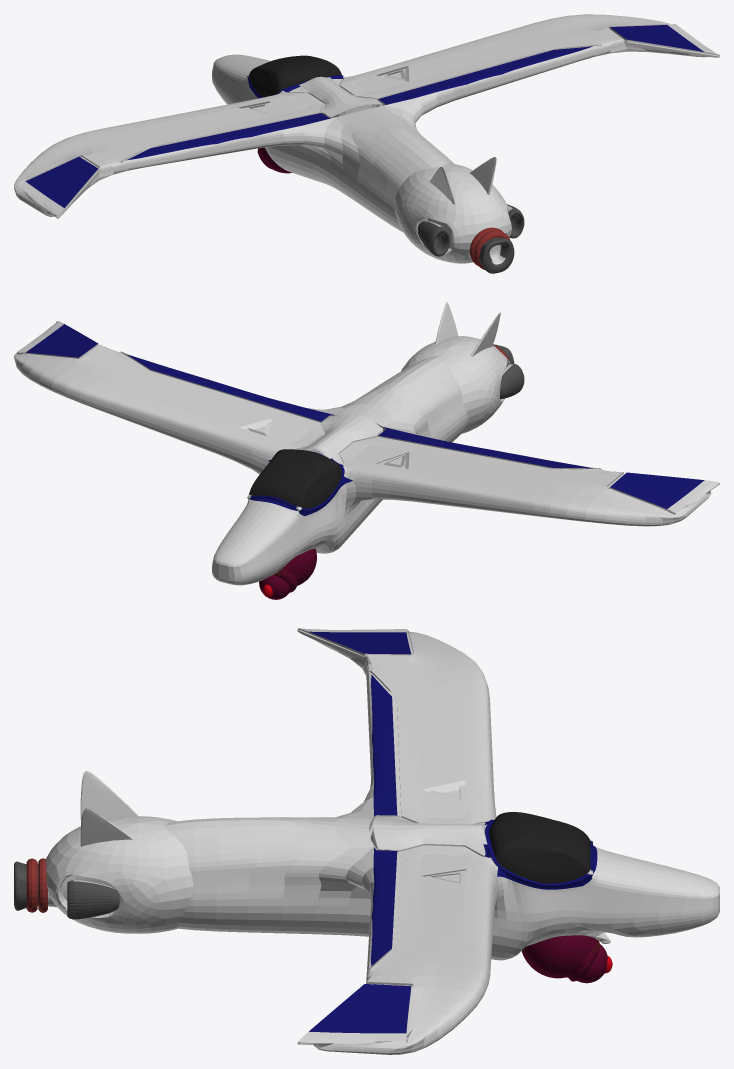
The model's file is enemy_ship.fbx.
3 renders of one model, top to bottom at view 1: azimuth 30°, elevation 25°; view 2: azimuth 150°, elevation 25°; view 3: azimuth 270°, elevation 25°, orthographic. The views are drawn at different scales.
Visible parts, largest first — view 1: Cube, Cube.002; view 2: Cube, Cube.002; view 3: Cube, Cube.001, Cube.002.
Boxes of the visible parts, x1,y1,x2,y2 form: Cube: (14,14,719,273); Cube.002: (470,157,496,194); Cube: (14,321,719,599); Cube.002: (435,302,458,344); Cube: (14,628,719,1054); Cube.001: (80,771,138,823); Cube.002: (80,808,133,846).
Bounding box in the file's own units: 16.05 × 3.46 × 11.49.
